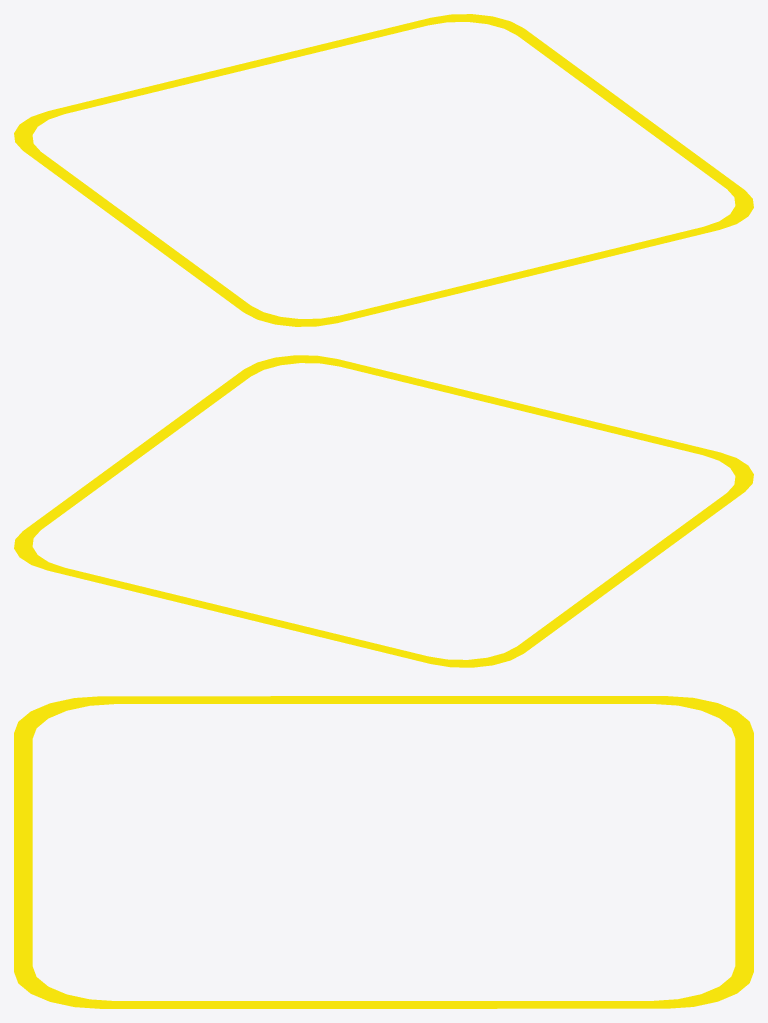
Rendered from ring.fbx.
3 renders of one model, top to bottom at view 1: azimuth 30°, elevation 25°; view 2: azimuth 150°, elevation 25°; view 3: azimuth 270°, elevation 25°, orthographic. The views are drawn at different scales.
Parts seen in each view (by area): view 1: _1; view 2: _1; view 3: _1.
Boxes of the visible parts, <box> form: _1: <box>14,14,753,326</box>; _1: <box>14,355,753,667</box>; _1: <box>14,696,753,1008</box>.
Size of the model in its own units: 200 by 0.069 by 200.
